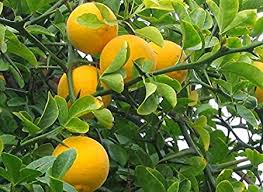orange: (46, 133, 112, 192), (97, 34, 157, 89), (53, 62, 111, 117), (64, 4, 120, 54), (141, 39, 190, 95)
